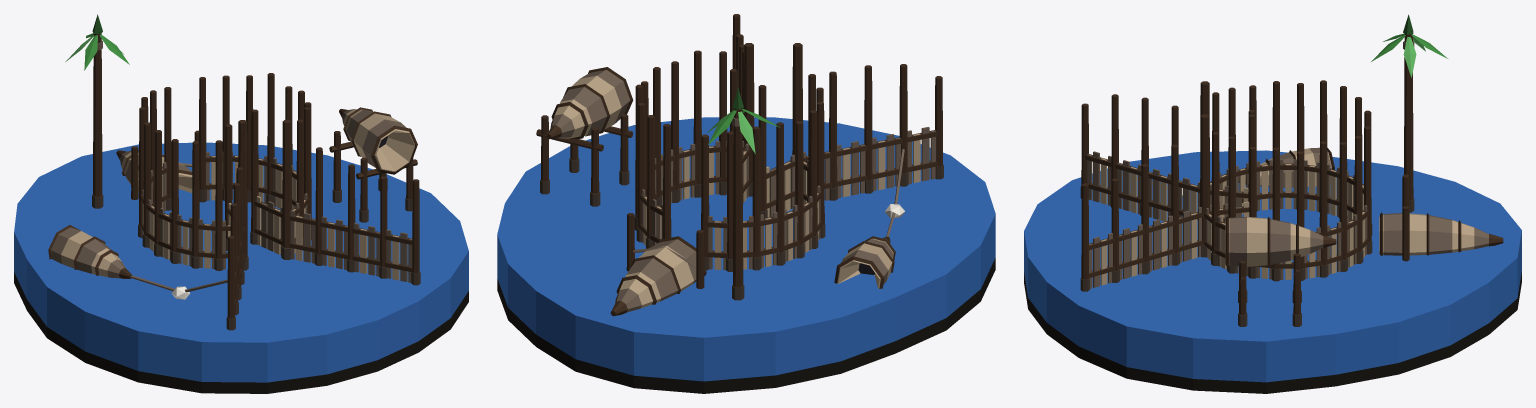
Rendered from fish_traps.glb.
The picture shows the model from 3 angles, left to right: view 1: azimuth 30°, elevation 25°; view 2: azimuth 150°, elevation 25°; view 3: azimuth 270°, elevation 25°; orthographic projection. The views are drawn at different scales.
Parts seen in each view (by area): view 1: water-sky-blue, stakes-dark-wood, screens-muddy-brown-light, water-muddy-brown-dark, screens-bright-boat-colours, screens-dark-wood, rack-dark-wood, stakes-muddy-brown, rack-bright-boat-colours, float_trap-muddy-brown-light, marker-dark-wood, float_trap-bright-boat-colours (+6 smaller); view 2: water-sky-blue, stakes-dark-wood, water-muddy-brown-dark, screens-muddy-brown-light, screens-bright-boat-colours, screens-dark-wood, rack-dark-wood, pound_trap-muddy-brown-light, stakes-muddy-brown, rack-muddy-brown-light, pound_trap-dark-wood, marker-dark-wood (+6 smaller); view 3: water-sky-blue, stakes-dark-wood, screens-muddy-brown-light, water-muddy-brown-dark, screens-bright-boat-colours, screens-dark-wood, rack-muddy-brown-light, pound_trap-muddy-brown-light, rack-bright-boat-colours, stakes-muddy-brown, rack-dark-wood, pound_trap-bright-boat-colours (+2 smaller).
Part boxes in pixels (x1,y1,x2,y2): water-sky-blue: [14, 142, 468, 382]; stakes-dark-wood: [139, 73, 419, 318]; screens-muddy-brown-light: [142, 151, 412, 282]; water-muddy-brown-dark: [14, 272, 468, 393]; screens-bright-boat-colours: [143, 156, 399, 280]; screens-dark-wood: [140, 155, 413, 309]; rack-dark-wood: [329, 107, 417, 210]; stakes-muddy-brown: [138, 188, 420, 330]; rack-bright-boat-colours: [343, 109, 414, 171]; float_trap-muddy-brown-light: [51, 227, 227, 292]; marker-dark-wood: [93, 33, 102, 196]; float_trap-bright-boat-colours: [51, 231, 121, 277]; water-sky-blue: [497, 117, 995, 381]; stakes-dark-wood: [635, 14, 942, 258]; water-muddy-brown-dark: [497, 258, 995, 393]; screens-muddy-brown-light: [642, 127, 936, 270]; screens-bright-boat-colours: [644, 133, 920, 269]; screens-dark-wood: [637, 130, 937, 258]; rack-dark-wood: [536, 67, 633, 193]; pound_trap-muddy-brown-light: [615, 239, 696, 312]; stakes-muddy-brown: [634, 164, 943, 271]; rack-muddy-brown-light: [550, 70, 629, 138]; pound_trap-dark-wood: [610, 213, 706, 316]; marker-dark-wood: [733, 108, 743, 287]; water-sky-blue: [1024, 150, 1521, 382]; stakes-dark-wood: [1081, 80, 1371, 279]; screens-muddy-brown-light: [1087, 151, 1367, 288]; water-muddy-brown-dark: [1024, 272, 1521, 393]; screens-bright-boat-colours: [1100, 158, 1365, 285]; screens-dark-wood: [1085, 154, 1368, 277]; rack-muddy-brown-light: [1229, 217, 1323, 266]; pound_trap-muddy-brown-light: [1384, 213, 1488, 255]; rack-bright-boat-colours: [1225, 217, 1310, 266]; stakes-muddy-brown: [1080, 186, 1372, 291]; rack-dark-wood: [1225, 216, 1336, 314]; pound_trap-bright-boat-colours: [1379, 213, 1474, 255].
Bounding box in the file's own units: 3.53 × 2.14 × 3.88.
